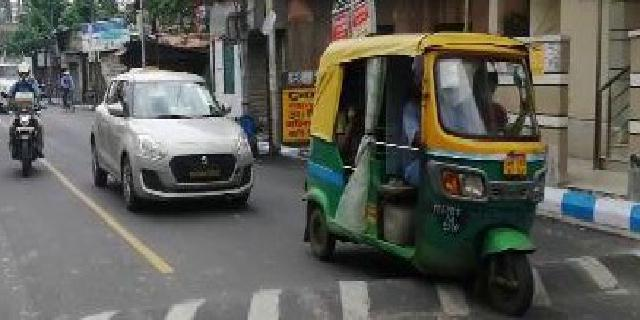Autorickshaw: (303, 31, 546, 316)
Car: (88, 68, 255, 216)
Motorbike: (6, 63, 45, 176)
